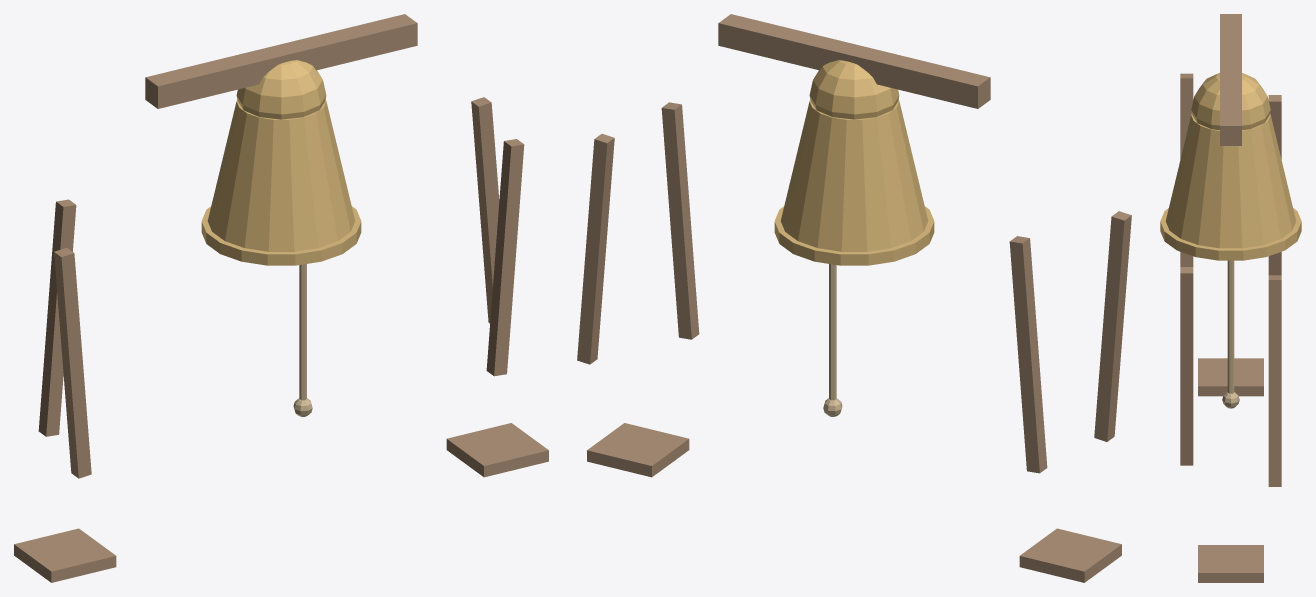
Rendered from VillageBell.fbx.
3 views of the same model, side by side, from view 1: azimuth 30°, elevation 25°; view 2: azimuth 150°, elevation 25°; view 3: azimuth 270°, elevation 25° (orthographic). The views are drawn at different scales.
Visible parts, largest first — view 1: VillageBell; view 2: VillageBell; view 3: VillageBell.
Boxes of the visible parts, left/top/right/bottom form: VillageBell: left=14, top=14, right=548, bottom=582; VillageBell: left=577, top=14, right=1131, bottom=582; VillageBell: left=1160, top=14, right=1301, bottom=582.
Size of the model in its own units: 2.3 by 2.02 by 0.64.
